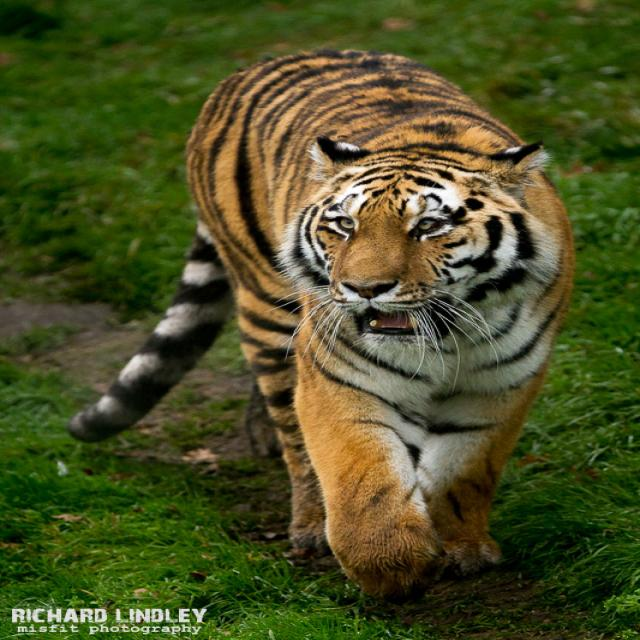Tiger: (71, 41, 593, 582)
